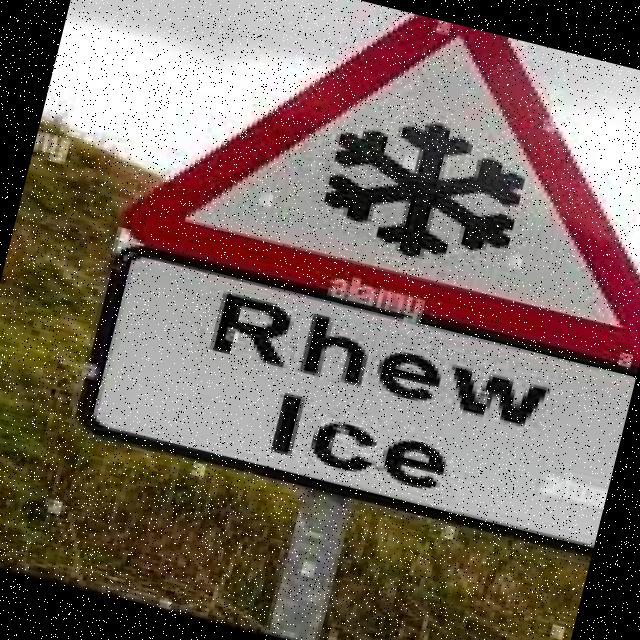snow_warning: (100, 0, 640, 377)
